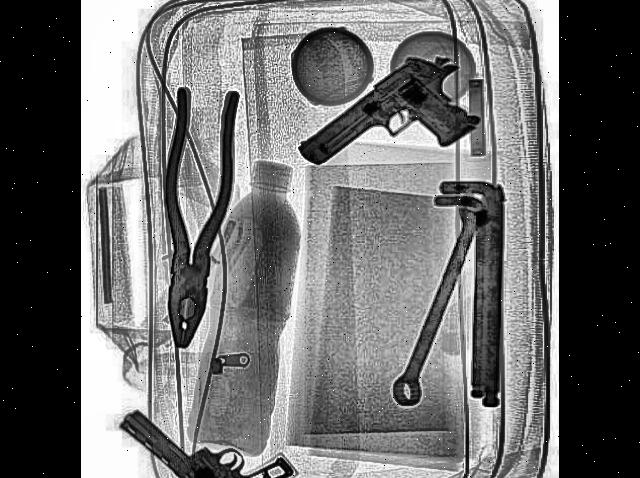Gun: (298, 26, 484, 247), (112, 388, 297, 478)
Pliers: (147, 77, 243, 355)
Wrench: (388, 181, 496, 415)
